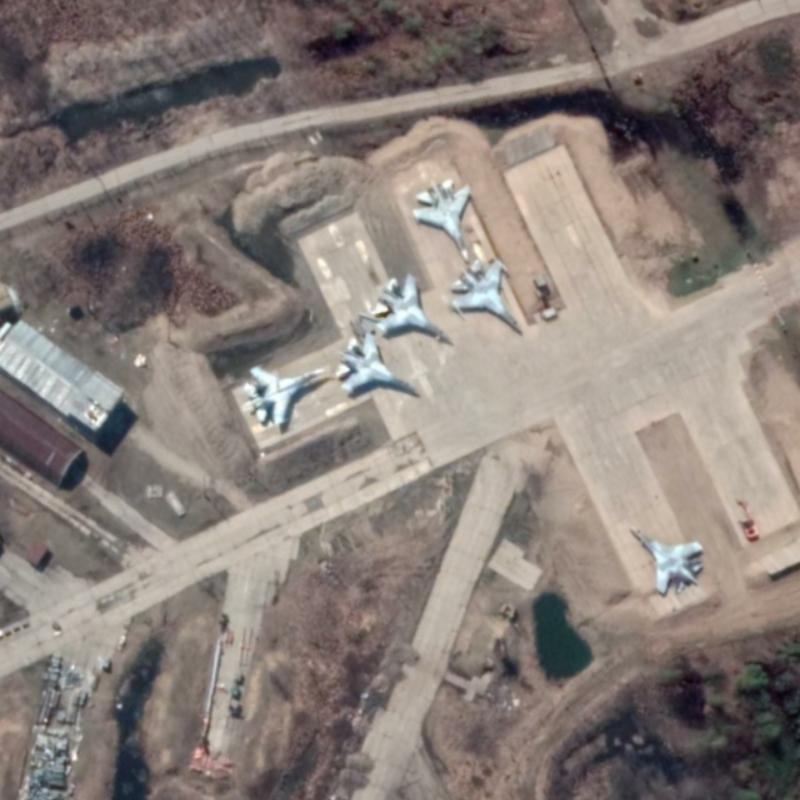A1: (445, 254, 527, 337), (329, 329, 421, 399), (407, 174, 476, 267), (622, 521, 705, 598), (368, 271, 453, 346), (236, 363, 329, 429)
